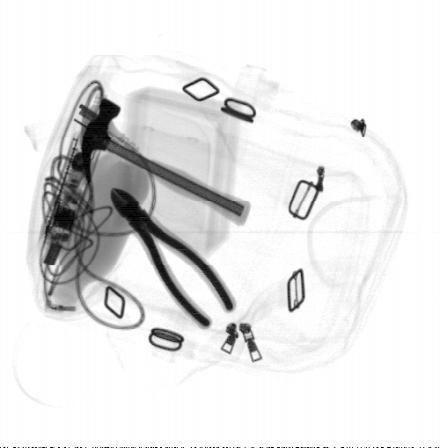Hammer: (81, 96, 251, 226)
Pliers: (111, 187, 238, 331)
